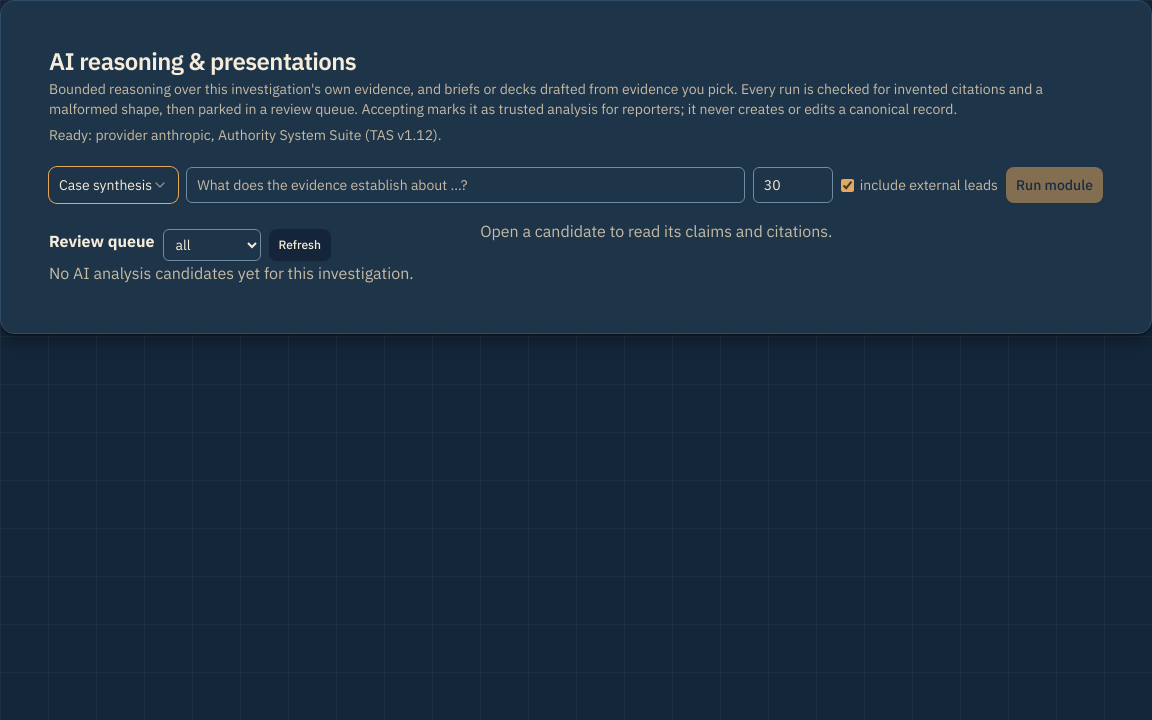
Test: AiReasoningPanel › surfaces a citation rejection from the backend instead of a proposed candidate
expect the text "No AI analysis candidates yet for this investigation." is shown: met, box x1=49 y1=261 x2=464 y2=285
Press Arrowdown Arrowdown
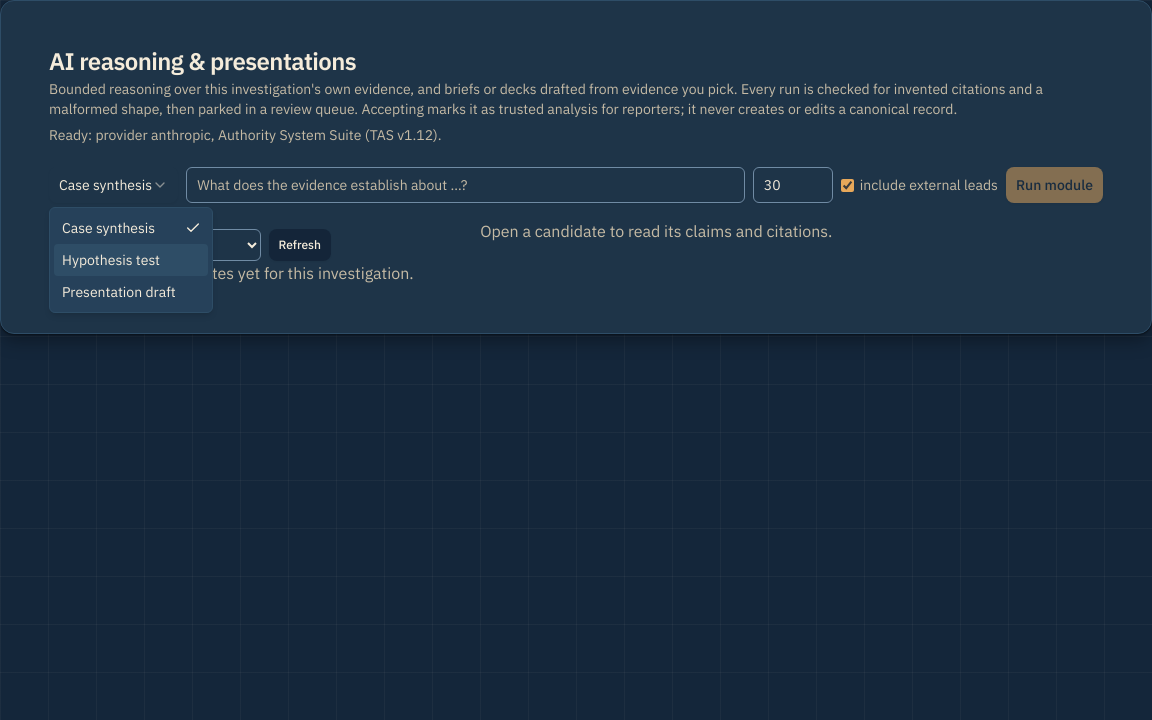
Click the option "Presentation draft": coordinates (119, 292) x1=62 y1=283 x2=176 y2=301
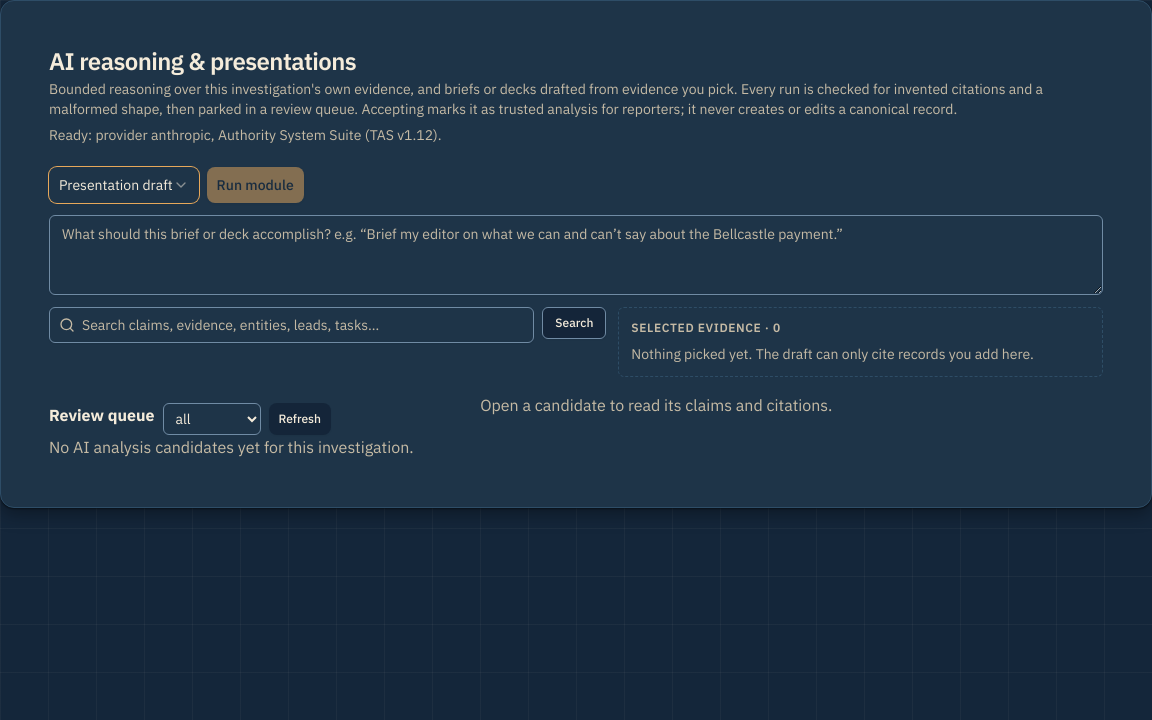
In the text box named "Goal": coordinates (576, 255) x1=49 y1=215 x2=1103 y2=295, type "Summarize the Bellcastle payment."
In the field named "Search records to add": coordinates (292, 325) x1=49 y1=307 x2=534 y2=343, type "Bellcastle"
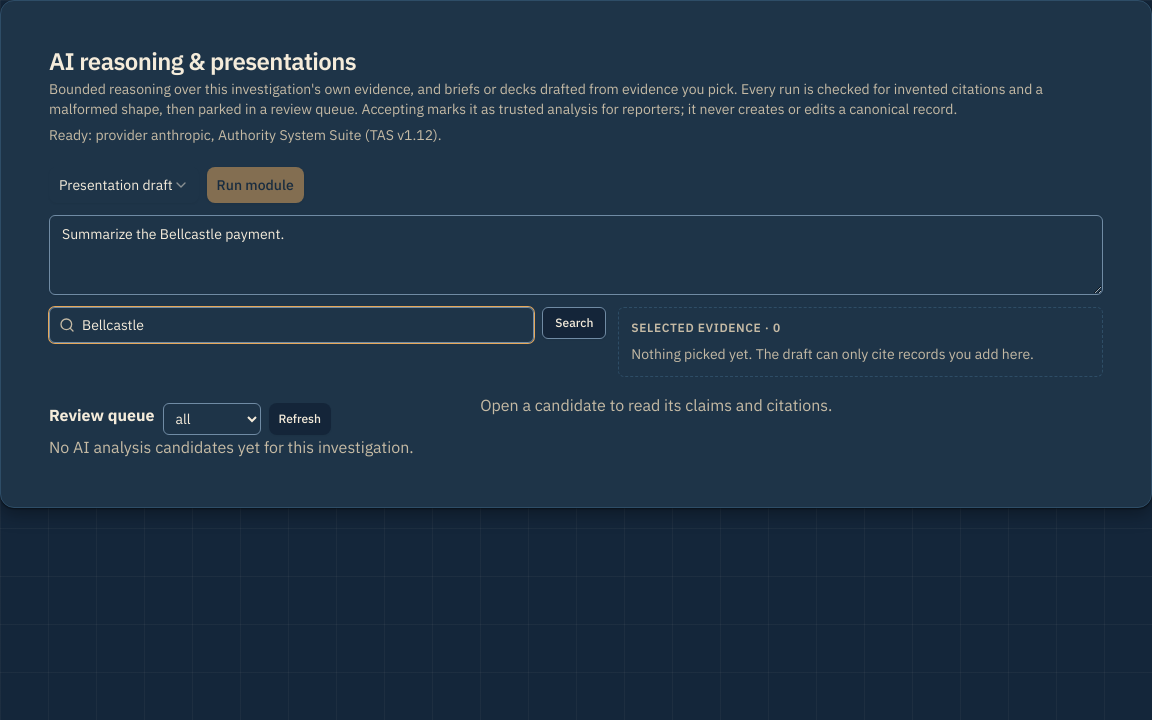
Click the button "Search": coordinates (574, 323) x1=542 y1=307 x2=606 y2=339
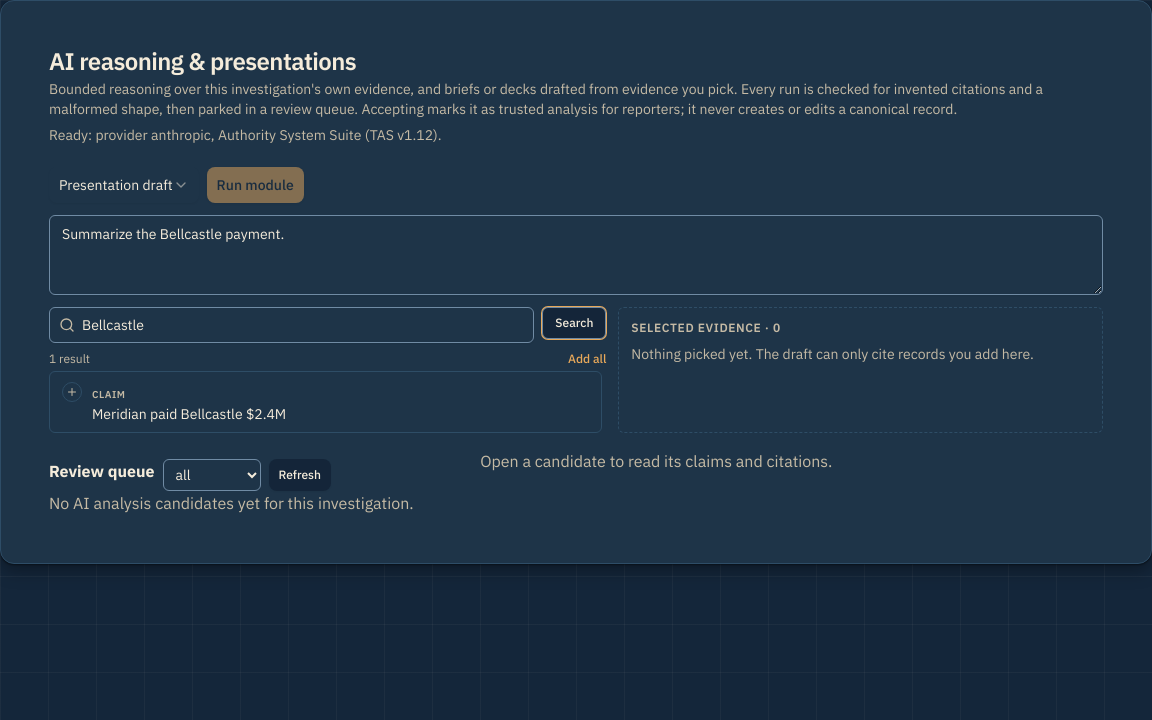
Click the button with aria-label "Add Claim: Meridian paid Bellcastle $2.4M": coordinates (109, 394) x1=49 y1=371 x2=602 y2=433
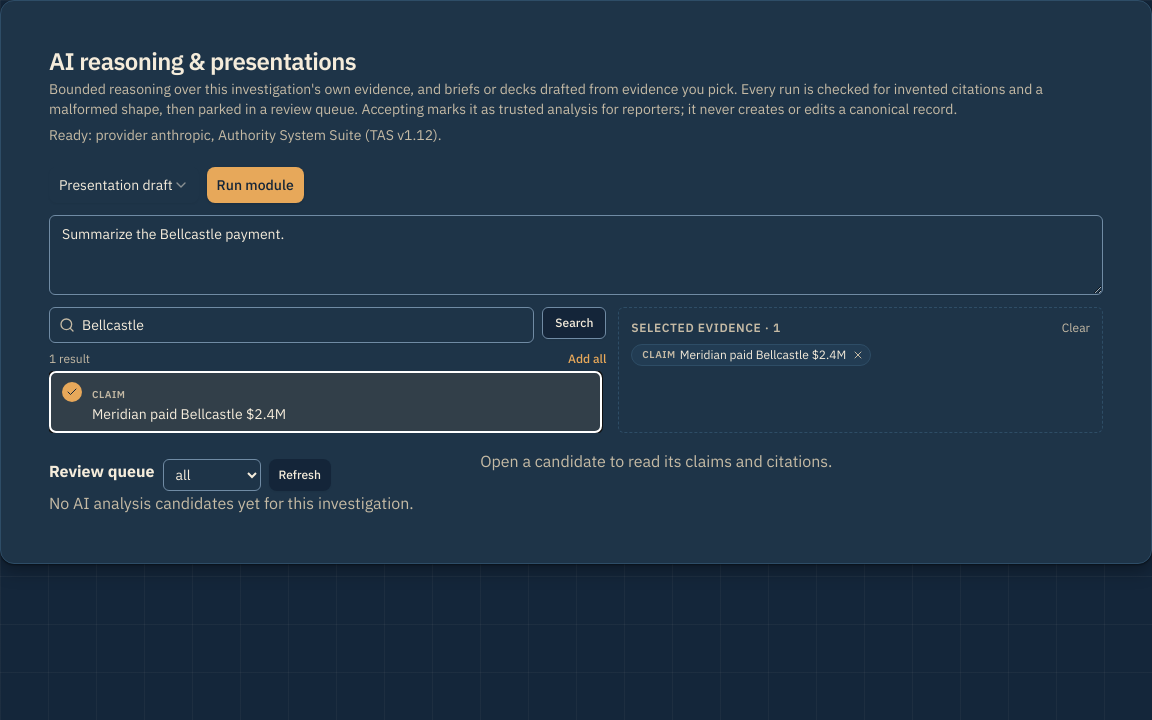
Click the button "Run module": coordinates (255, 185) x1=207 y1=167 x2=304 y2=203
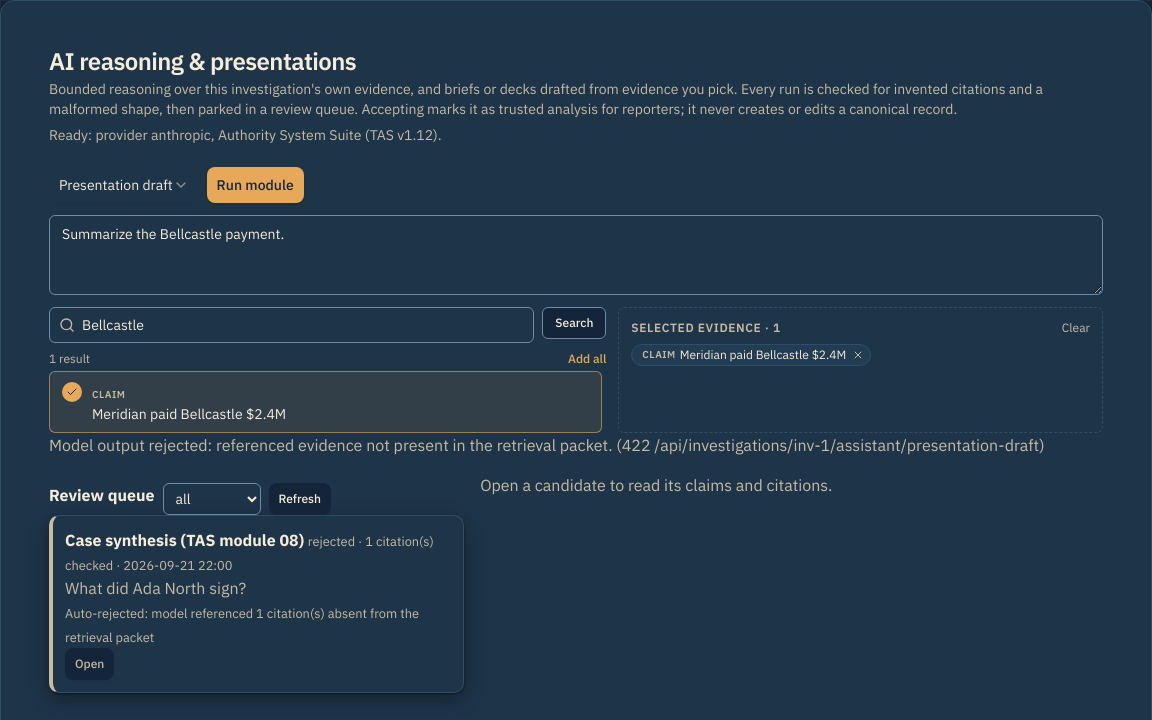
expect the text with test id "ai-run-status" shows "422": met, box x1=49 y1=435 x2=1044 y2=455
expect the text "Auto-rejected: model referenced 1 citation" is shown: met, box x1=65 y1=605 x2=419 y2=646
